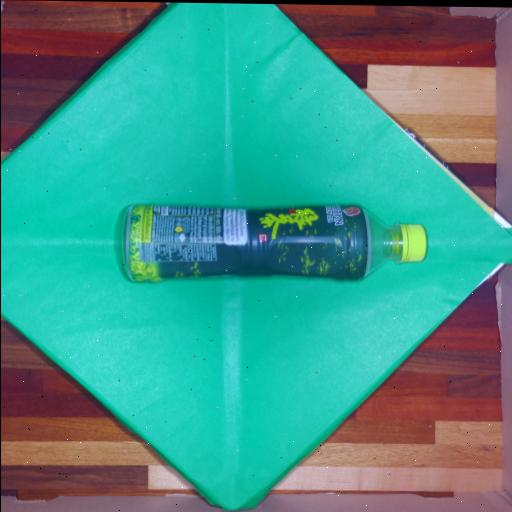bottle: (124, 206, 425, 281)
